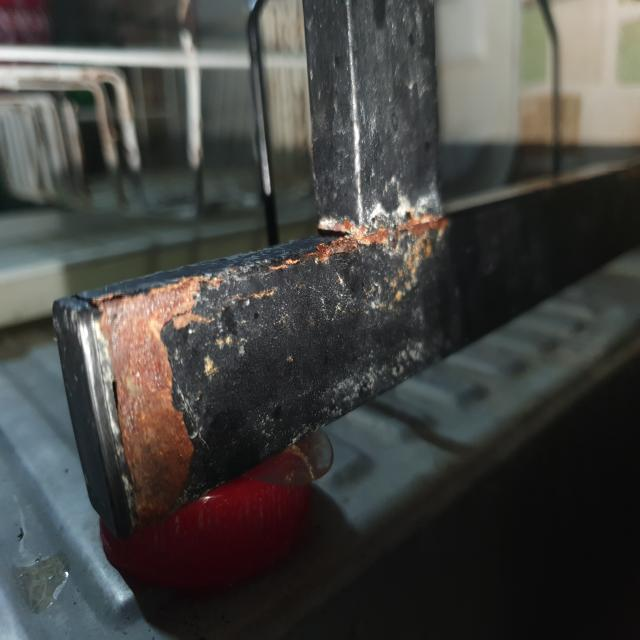Corrosion: (96, 277, 202, 524), (369, 221, 425, 250), (410, 213, 449, 250), (399, 234, 435, 270), (318, 215, 370, 234), (331, 229, 367, 252), (399, 266, 420, 300), (282, 256, 325, 266), (198, 275, 223, 290)
